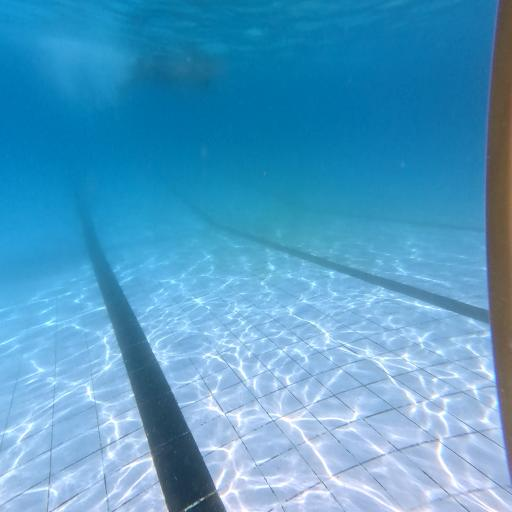pole_gate: (485, 1, 512, 490)
